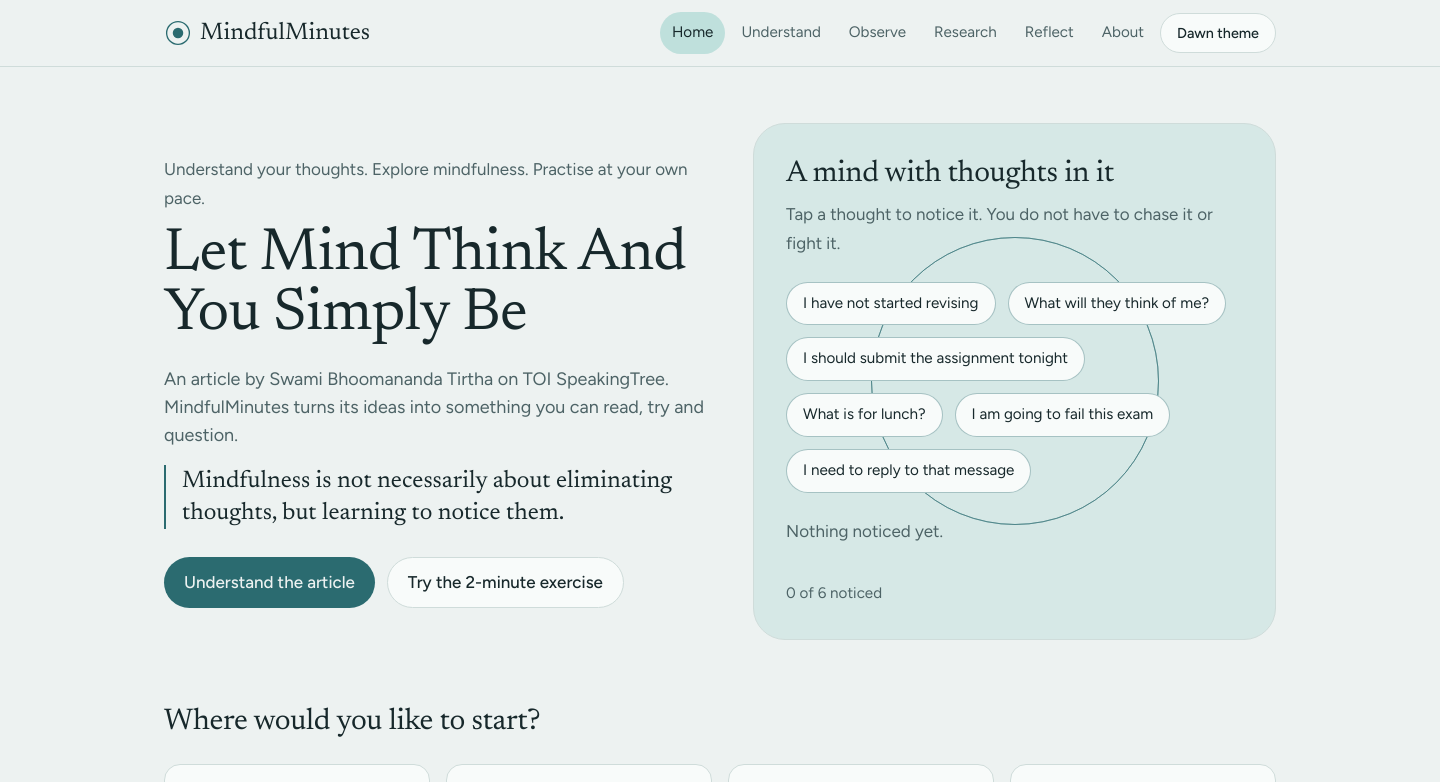
App routes › navigates from home to the exercise
What coordinates should you click on to do the following:
click the link "Observe"
I would click on:
 (877, 32)
Its box is [849,23,906,41].
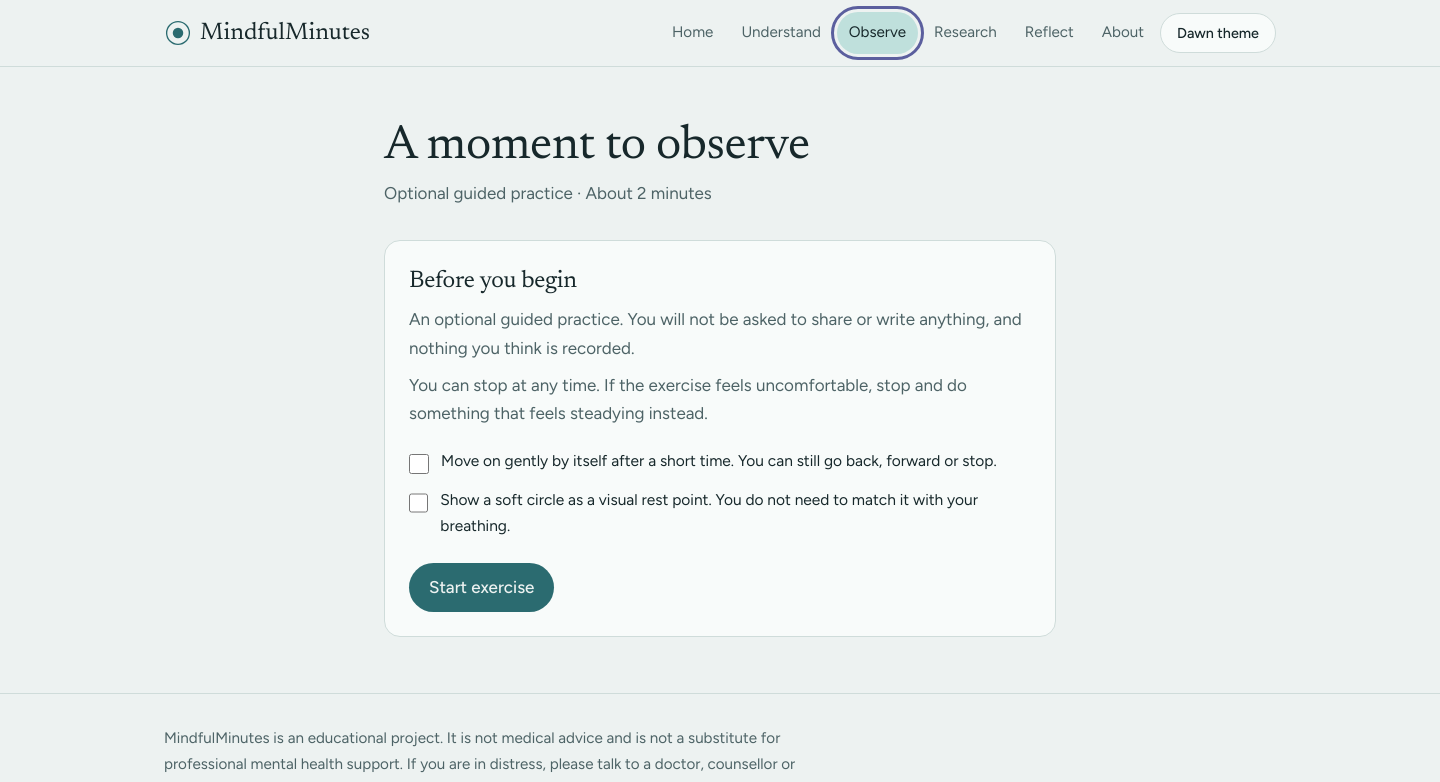
Expected: the heading "A moment to observe" is shown, [384,123,810,171]
